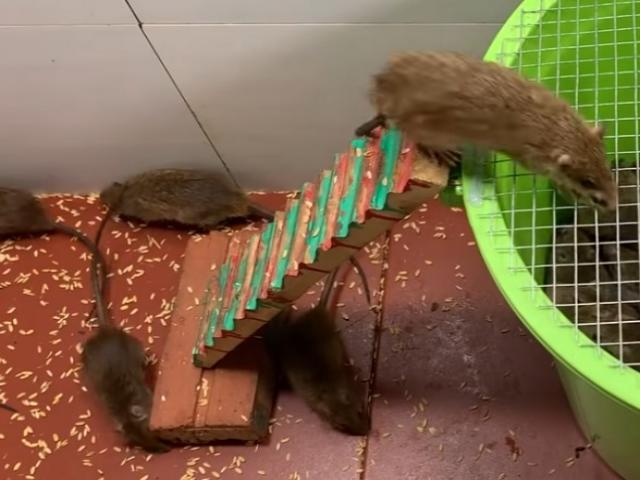Tikus: (364, 53, 617, 209), (83, 186, 160, 445), (284, 252, 370, 434), (99, 168, 278, 224)
